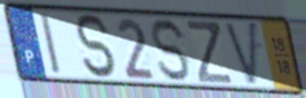2: (114, 15, 157, 82)
I: (37, 11, 64, 77)
S: (73, 12, 120, 81), (150, 17, 193, 84)
V: (222, 19, 259, 90)
Z: (184, 18, 235, 86)
